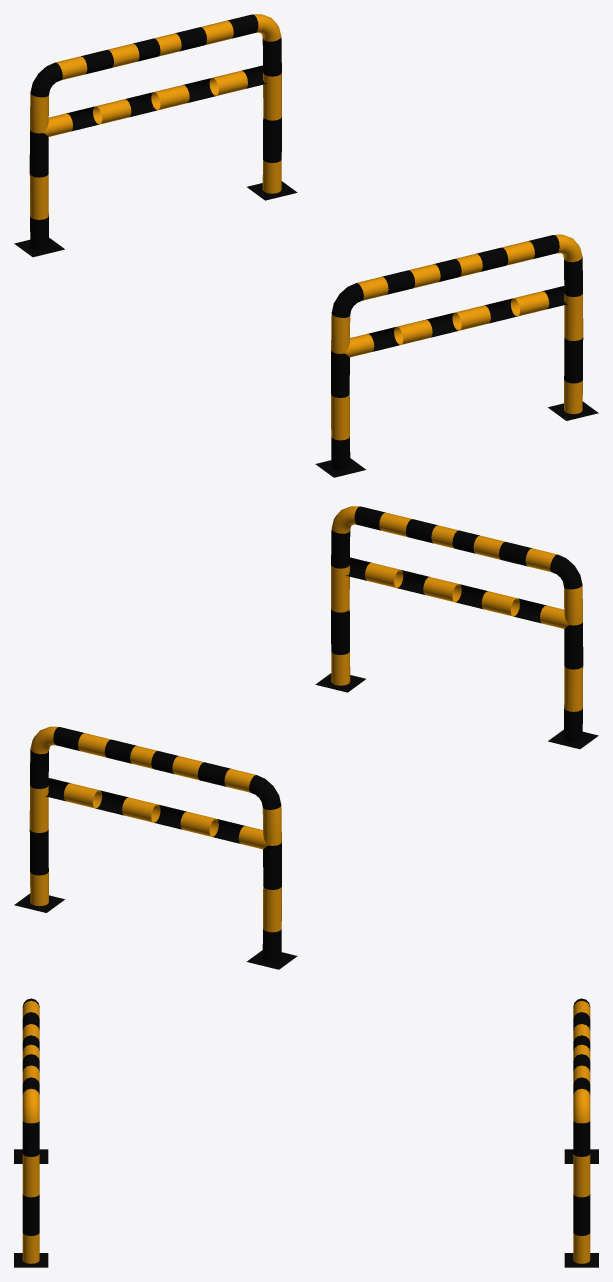
File: RailGuard.fbx
The picture shows the model from 3 angles, top to bottom: view 1: azimuth 30°, elevation 25°; view 2: azimuth 150°, elevation 25°; view 3: azimuth 270°, elevation 25°; orthographic projection. The views are drawn at different scales.
Parts seen in each view (by area): view 1: railGuard; view 2: railGuard; view 3: railGuard.
Part boxes in pixels (bbox=[...]): railGuard: bbox=[14, 14, 598, 477]; railGuard: bbox=[14, 506, 598, 969]; railGuard: bbox=[14, 998, 598, 1267].
Bounding box in the file's own units: 163 × 105 × 340.
